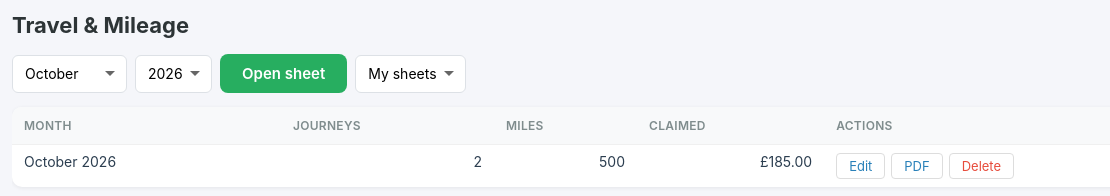
Scenario: Travel list › asks the server for everyones sheets when a superuser picks Everyone
The width and height of the screenshot is (1110, 196).
Select "Everyone" in the dropdown named "Person" at (411, 74), box [355,54,466,92]
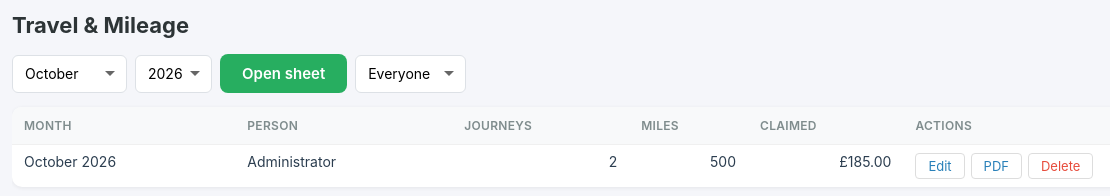
Expected: the column heading "Person" is shown, [235,107,452,144]
